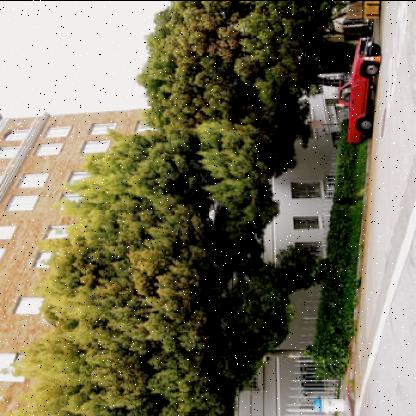Tree: (1, 121, 347, 415), (128, 1, 348, 183), (258, 238, 338, 299)
